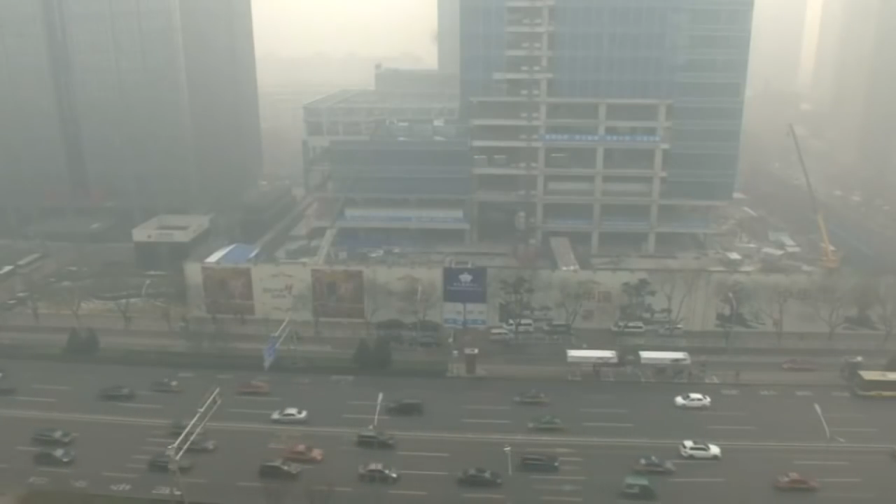bus: (564, 347, 693, 372), (854, 369, 896, 399)
car: (617, 475, 658, 502), (454, 465, 504, 487), (776, 470, 820, 495), (357, 461, 399, 487), (256, 456, 301, 480), (677, 438, 722, 462), (518, 449, 560, 474), (353, 429, 397, 451), (147, 453, 195, 473), (282, 443, 328, 463), (30, 445, 75, 465), (672, 389, 712, 411), (384, 396, 425, 417), (30, 427, 75, 446), (632, 454, 676, 473), (525, 413, 565, 433), (270, 404, 308, 424), (781, 356, 819, 375), (177, 435, 220, 451), (98, 385, 136, 403), (168, 418, 203, 437), (609, 318, 645, 336), (515, 387, 551, 404), (236, 380, 271, 397), (501, 317, 535, 334), (151, 375, 184, 392), (542, 319, 572, 334), (655, 322, 684, 337), (488, 327, 514, 342)
